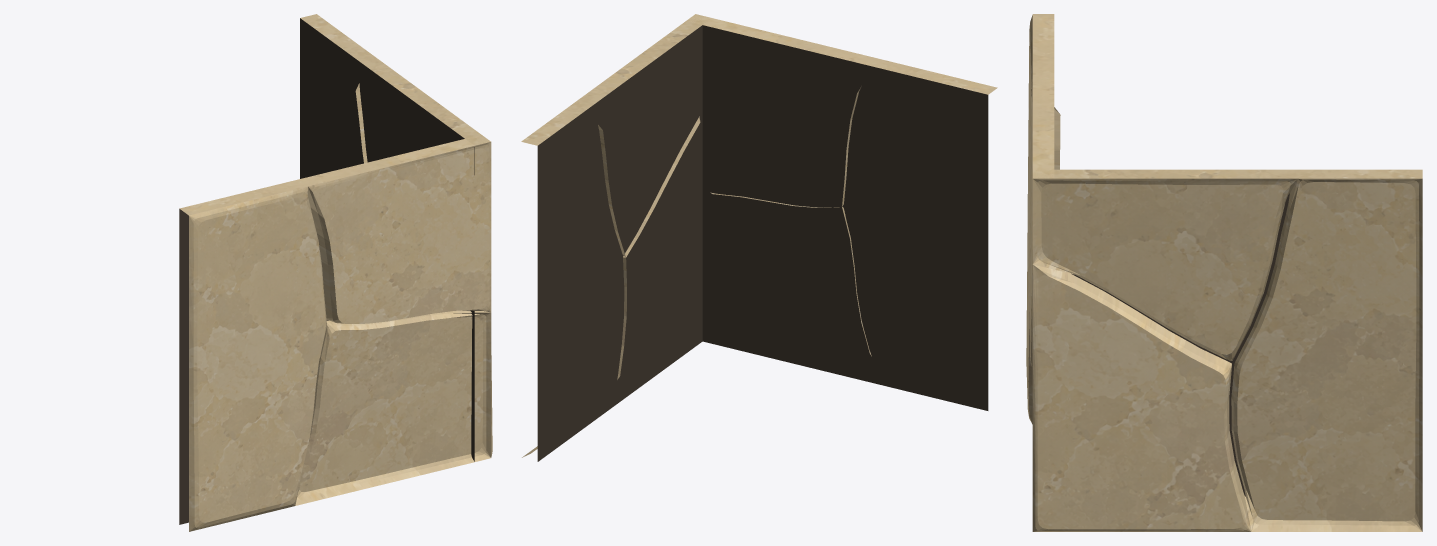
Rendered from ground_square_corner_03.glb.
The picture shows the model from 3 angles, left to right: view 1: azimuth 30°, elevation 25°; view 2: azimuth 150°, elevation 25°; view 3: azimuth 270°, elevation 25°; orthographic projection. The views are drawn at different scales.
Parts seen in each view (by area): view 1: GroundSquareCorner03_Body; view 2: GroundSquareCorner03_Body; view 3: GroundSquareCorner03_Body.
Boxes of the visible parts, x1,y1,x2,y2 form: GroundSquareCorner03_Body: [179, 14, 492, 531]; GroundSquareCorner03_Body: [521, 14, 997, 461]; GroundSquareCorner03_Body: [1026, 14, 1422, 531].
Size of the model in its own units: 1.01 by 1 by 1.02.
Materials: 8 (7 with a texture image).
